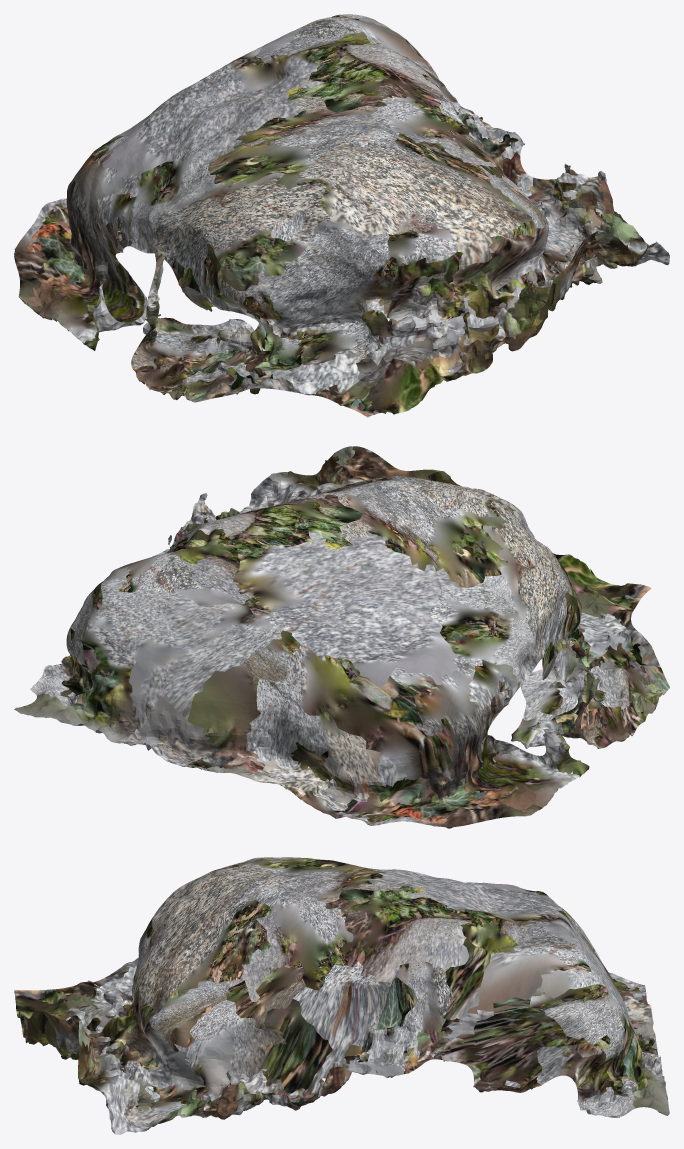
3 views of the same model, one above another, from view 1: azimuth 30°, elevation 25°; view 2: azimuth 150°, elevation 25°; view 3: azimuth 270°, elevation 25° (orthographic). The views are drawn at different scales.
Visible parts, largest first — view 1: nodes[0]; view 2: nodes[0]; view 3: nodes[0].
Part boxes in pixels (box(x1,y1,x2,y2)): nodes[0]: box(14, 14, 669, 417); nodes[0]: box(14, 446, 669, 828); nodes[0]: box(14, 857, 669, 1134).
Bounding box in the file's own units: 1.51 × 0.6253 × 1.78.
